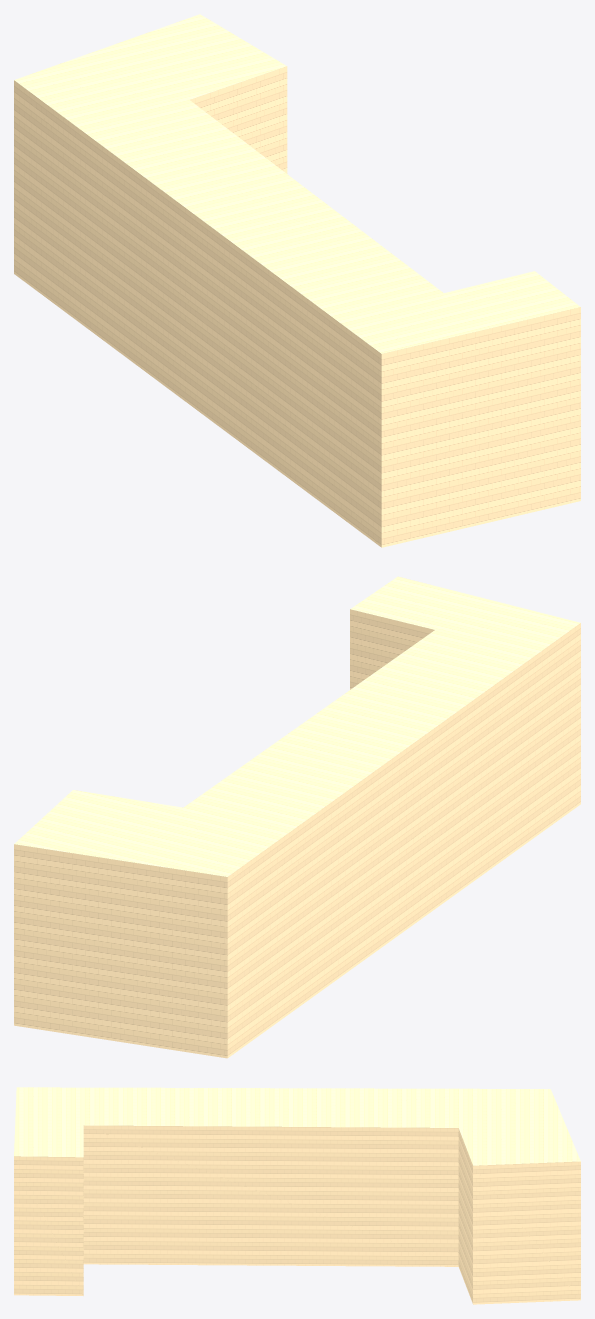
File: landmark-multani-caravanserai.glb
3 renders of one model, top to bottom at view 1: azimuth 30°, elevation 25°; view 2: azimuth 150°, elevation 25°; view 3: azimuth 270°, elevation 25°, orthographic. The views are drawn at different scales.
Visible parts, largest first — view 1: multani-caravanserai; view 2: multani-caravanserai; view 3: multani-caravanserai.
Part boxes in pixels (box(x1,y1,x2,y2)): multani-caravanserai: box(14, 14, 580, 547); multani-caravanserai: box(14, 576, 580, 1058); multani-caravanserai: box(14, 1087, 580, 1304).
Bounding box in the file's own units: 15.69 × 12.97 × 47.98.
1 material, 1 textured.
